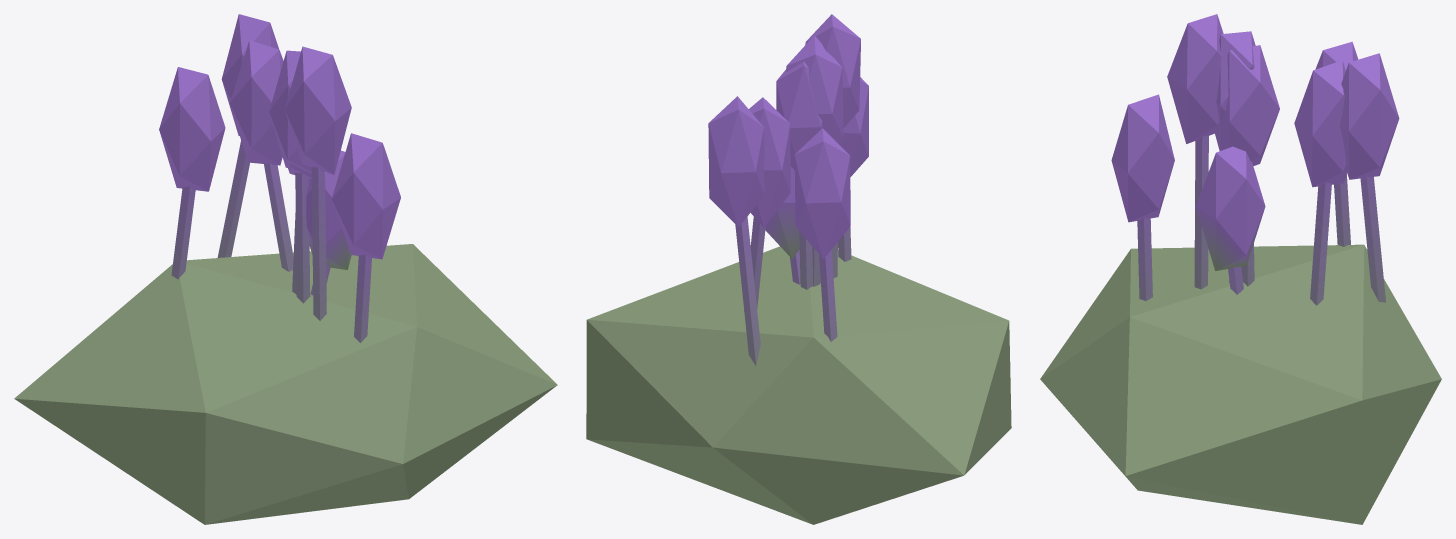
The model's file is lavender_2.glb.
3 renders of one model, left to right at view 1: azimuth 30°, elevation 25°; view 2: azimuth 150°, elevation 25°; view 3: azimuth 270°, elevation 25°, orthographic. The views are drawn at different scales.
Parts seen in each view (by area): view 1: lavender_2; view 2: lavender_2; view 3: lavender_2.
Part boxes in pixels (x1,y1,x2,y2): lavender_2: (14,14,557,524); lavender_2: (586,14,1011,524); lavender_2: (1040,14,1441,524).
Size of the model in its own units: 0.7549 by 0.7727 by 0.6181.
